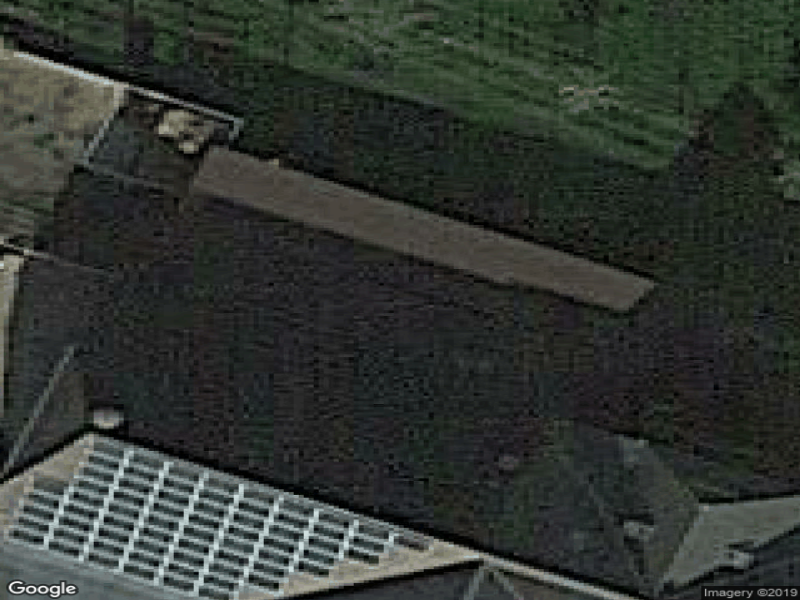pv: (7, 440, 431, 600)
